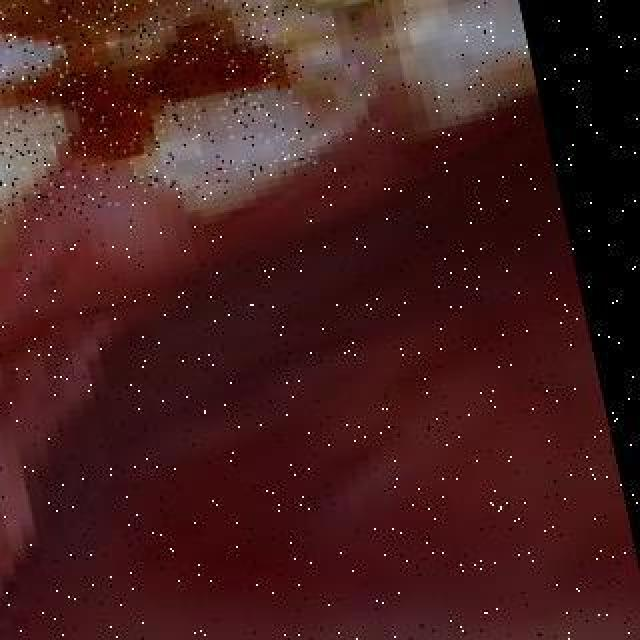cavities: (0, 0, 352, 188)
